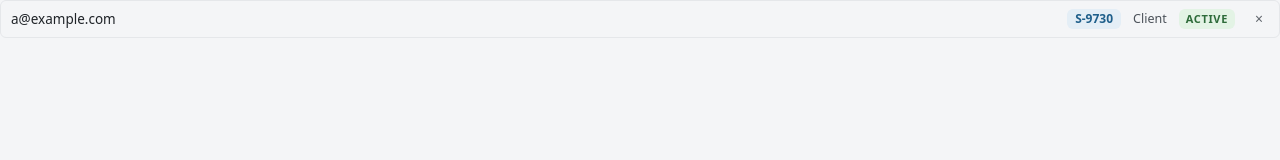
Test: GrantList revoke › revokes on Yes: the row turns Revoked at once and the list is reloaded
The image size is (1280, 160).
What coordinates should you click on to do the following:
click the button named "Remove a@example.com"
I would click on:
 (1259, 19)
Its box is [1247,7,1271,31].
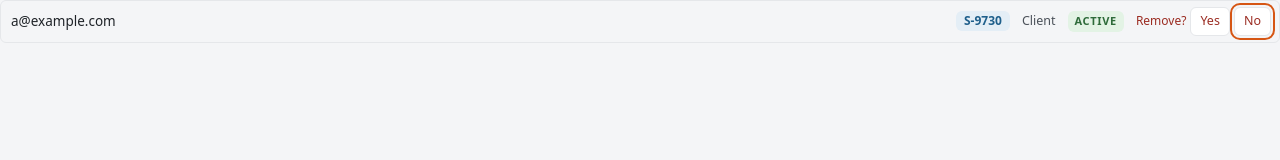
What coordinates should you click on to do the following:
click the button "Yes"
I would click on:
 (1210, 21)
Its box is [1190,7,1230,36].
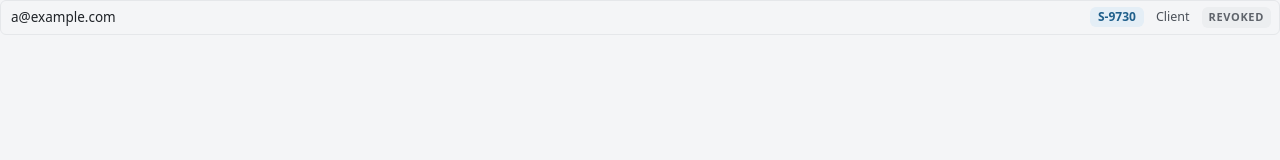
Now the text "Revoked" is shown, box [1202,7,1271,28]
